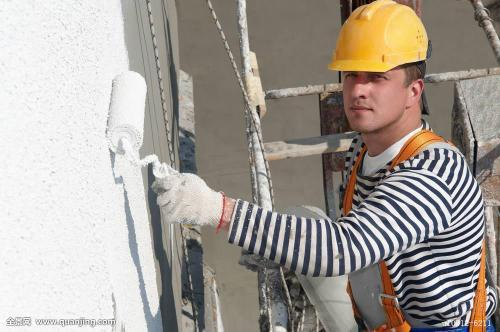helmet: (321, 0, 449, 148)
